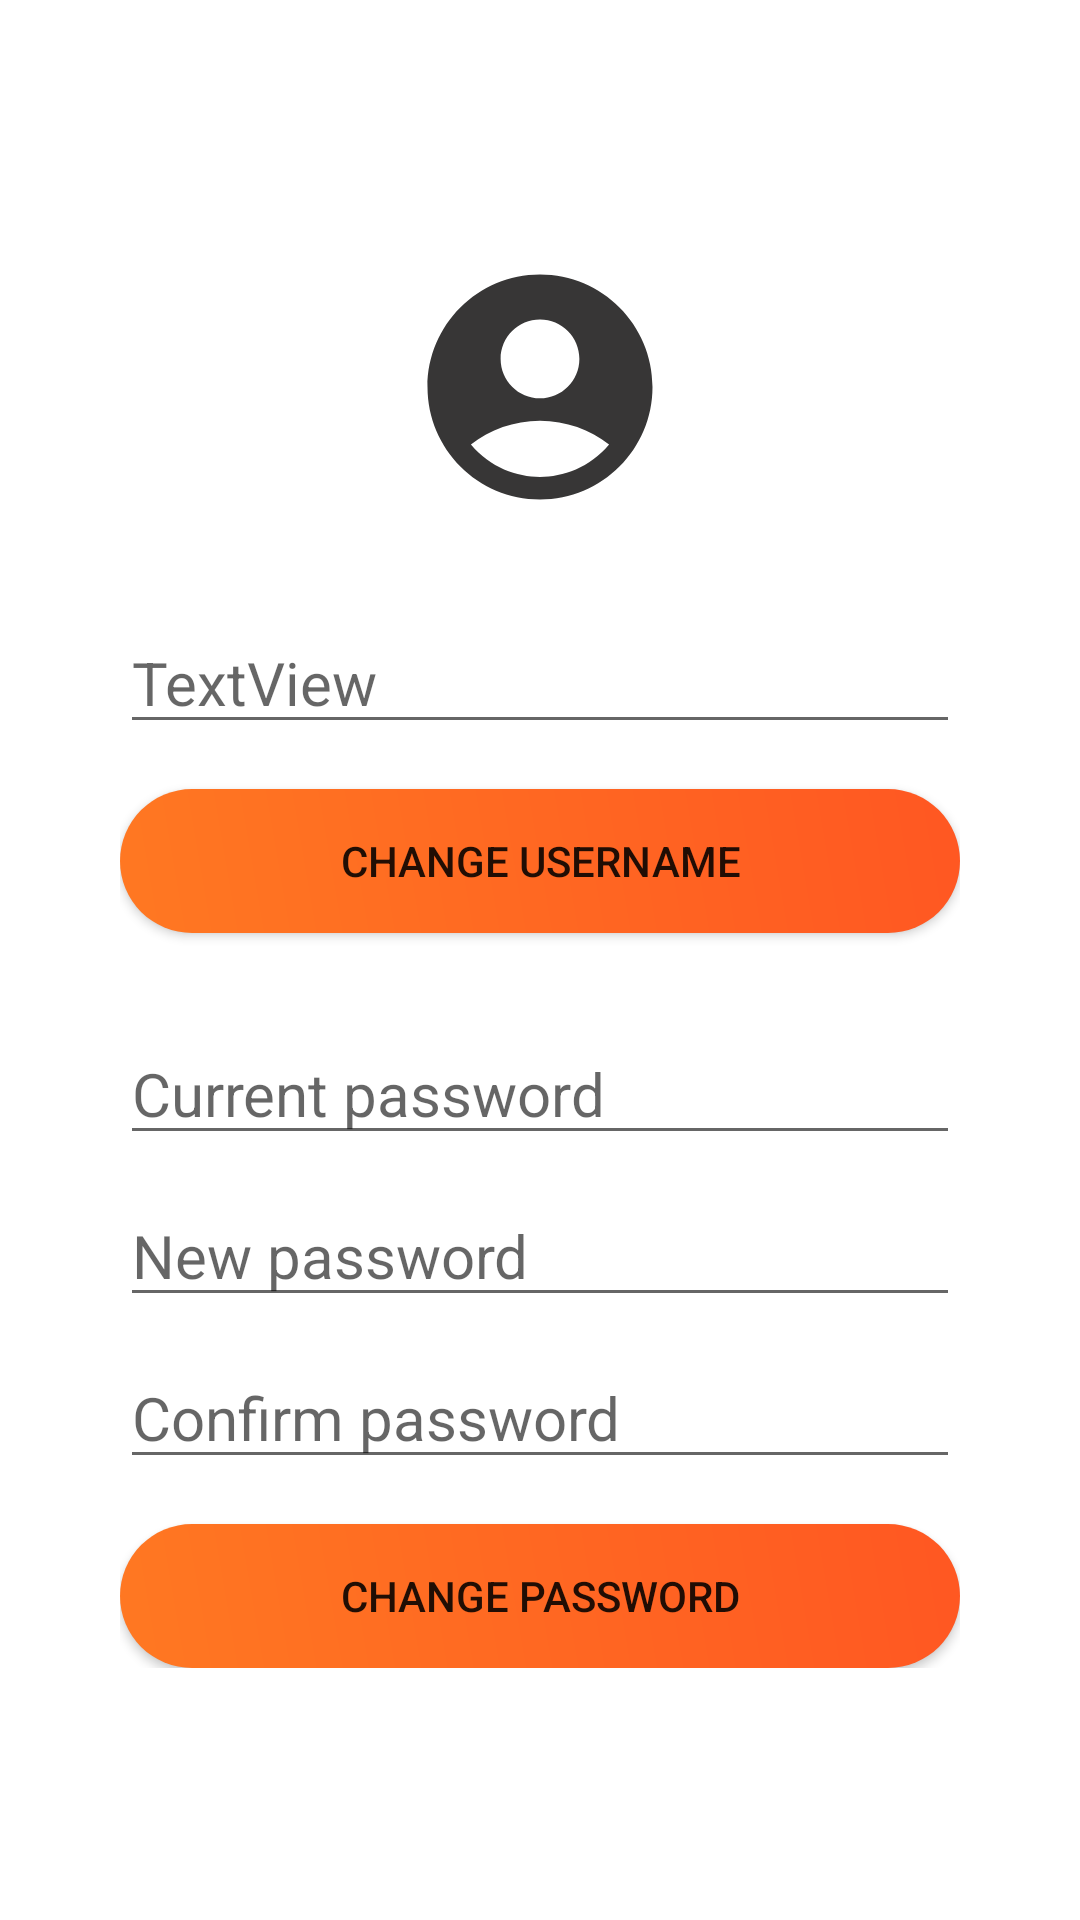

Icon click points for this 1080x1920 phone screenshot, format (x=x, y=y):
user: (x=540, y=387)
